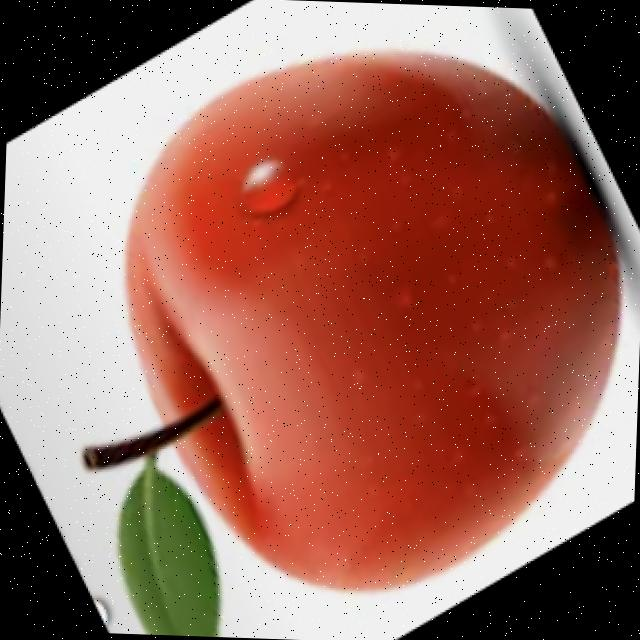Ripe: (107, 33, 634, 608)
